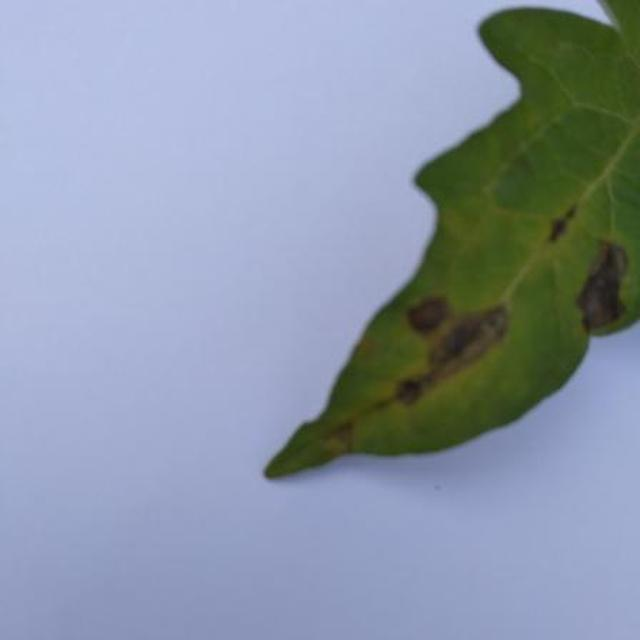Early Blight Leaf: (372, 26, 640, 640)
